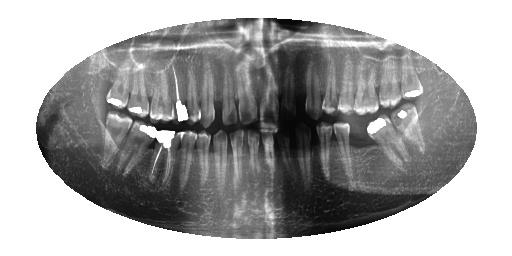i10healthy: (222, 122, 251, 201)
i11healthy: (209, 119, 232, 204)
i12healthy: (192, 121, 215, 202)
i13healthy: (172, 123, 200, 206)
i14healthy: (144, 123, 182, 199)
i15healthy: (112, 108, 160, 184)
i16healthy: (97, 103, 134, 180)
i1healthy: (387, 95, 429, 160)
i2healthy: (362, 111, 417, 175)
i3loss: (345, 115, 383, 170)
i4healthy: (329, 115, 358, 194)
i5healthy: (310, 114, 338, 194)
i6decay: (291, 115, 316, 195)
i7decay: (270, 115, 300, 192)
i8healthy: (256, 124, 280, 191)
i9healthy: (243, 124, 263, 195)
u10decay: (217, 60, 240, 132)
u11healthy: (193, 52, 220, 130)
u12healthy: (178, 55, 206, 129)
u13healthy: (165, 56, 192, 126)
u14healthy: (145, 60, 181, 126)
u15healthy: (124, 64, 153, 122)
u16healthy: (104, 58, 134, 114)
u1healthy: (394, 45, 427, 104)
u2healthy: (375, 39, 405, 112)
u3healthy: (348, 47, 384, 119)
u4healthy: (333, 49, 360, 119)
u5healthy: (316, 51, 345, 117)
u6healthy: (299, 52, 330, 120)
u7decay: (276, 58, 300, 130)
u8decay: (251, 57, 283, 139)
u9decay: (231, 54, 263, 132)
